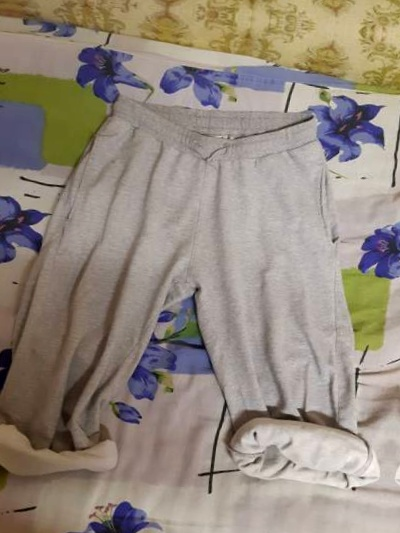Pants: (0, 66, 400, 523), (399, 117, 400, 533)
